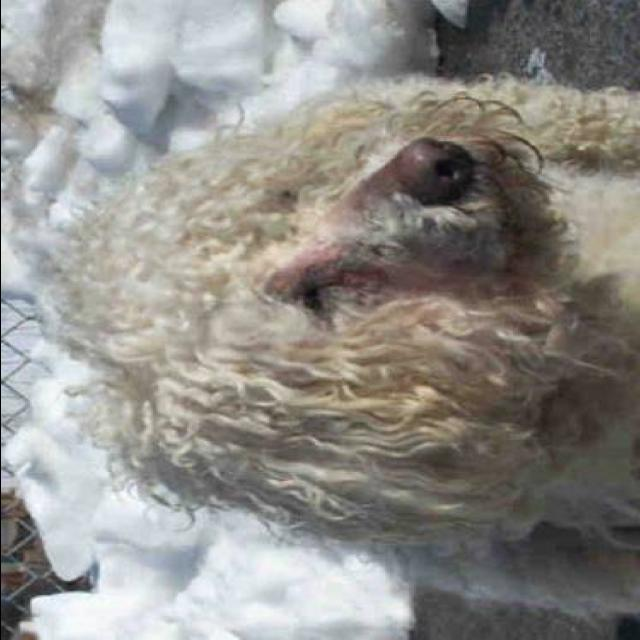dog: (48, 64, 640, 640)
